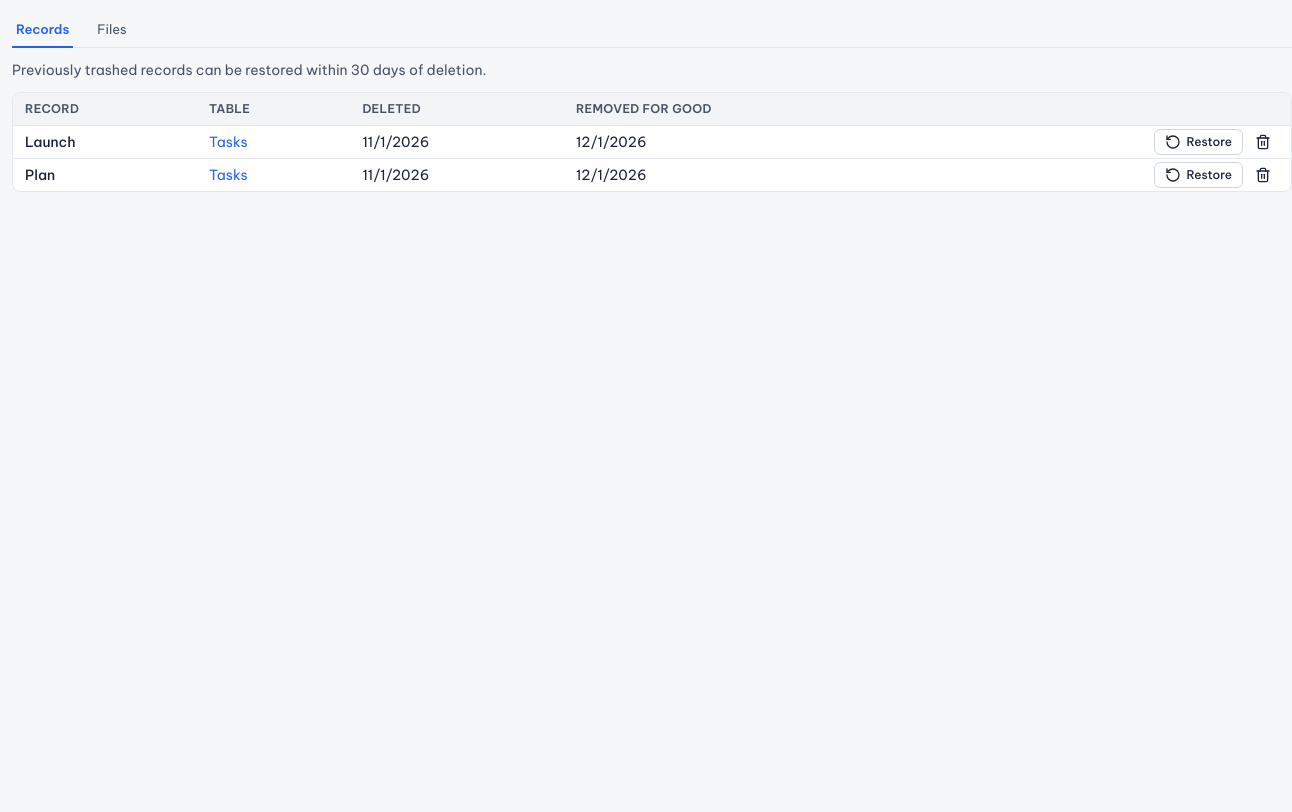
Test: TrashScreen › restores a record and takes it off the list
This screenshot has width=1292, height=812.
Click the button with aria-label "Restore Launch".
click(1198, 142)  # box [1154,128,1243,154]
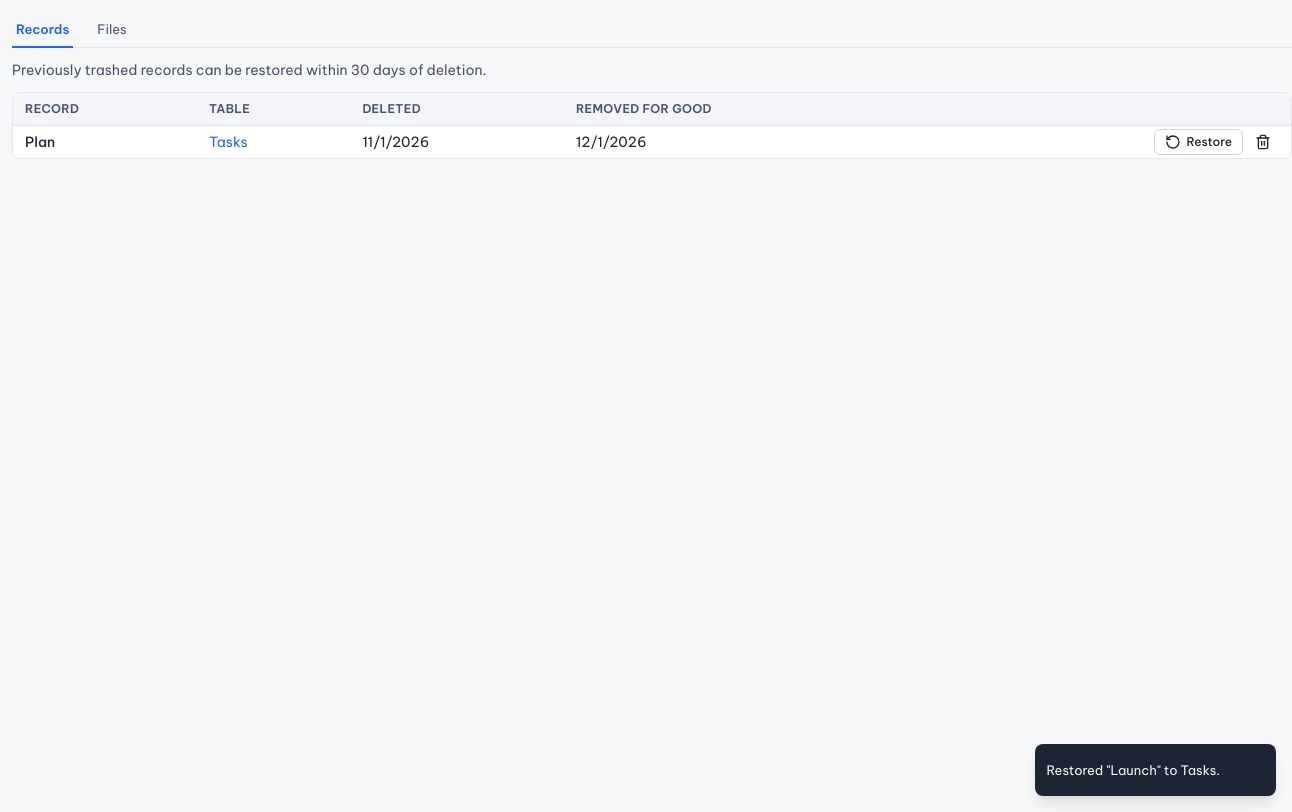
Expected: the text "Plan" is shown, [13,125,197,158]
Result: the text "Restored \"Launch\" to Tasks." is shown at [1047,760,1220,780]
